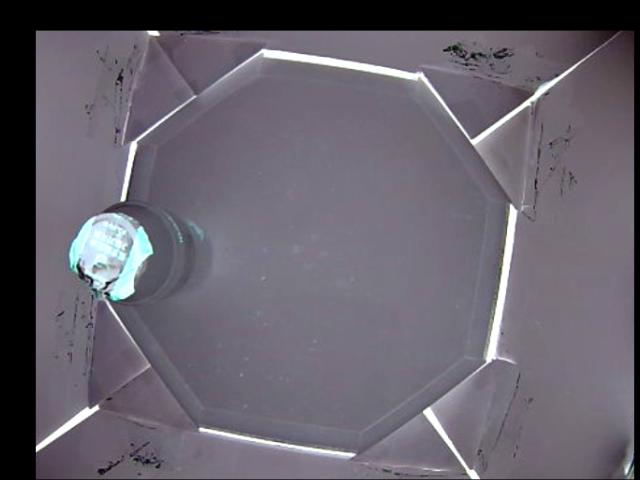Bottle: (67, 200, 214, 302)
